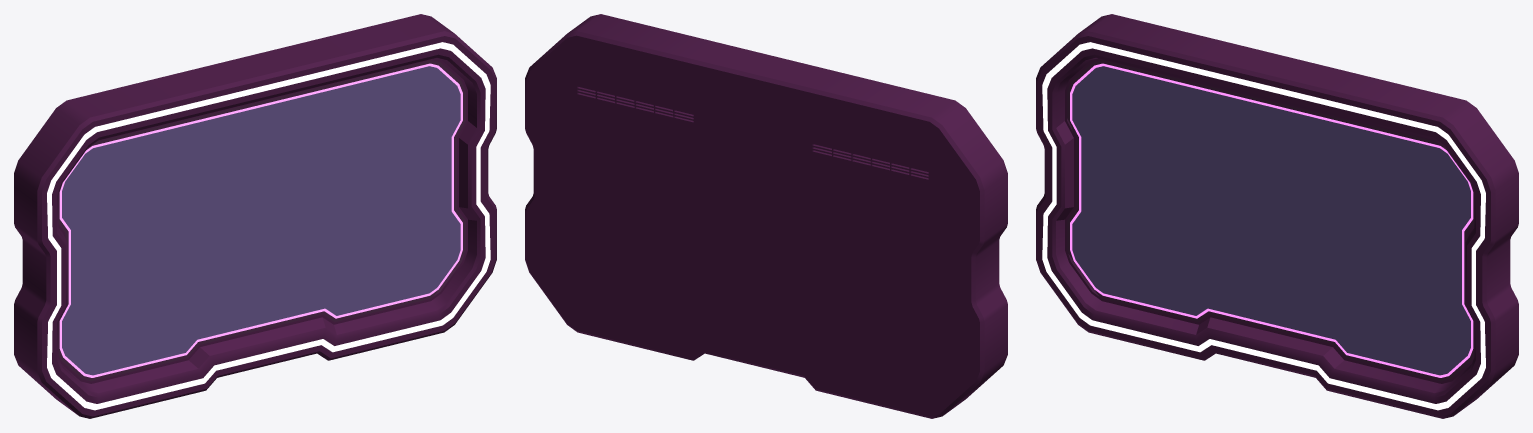
Rendered from tablet.gltf.
3 views of the same model, side by side, from view 1: azimuth 30°, elevation 25°; view 2: azimuth 150°, elevation 25°; view 3: azimuth 330°, elevation 25° (orthographic).
Parts seen in each view (by area): view 1: Tablet; view 2: Tablet; view 3: Tablet.
Boxes of the visible parts, x1,y1,x2,y2 form: Tablet: (14, 14, 496, 418); Tablet: (525, 14, 1007, 418); Tablet: (1036, 14, 1518, 418).
Bounding box in the file's own units: 4.07 × 2.55 × 0.4091.
